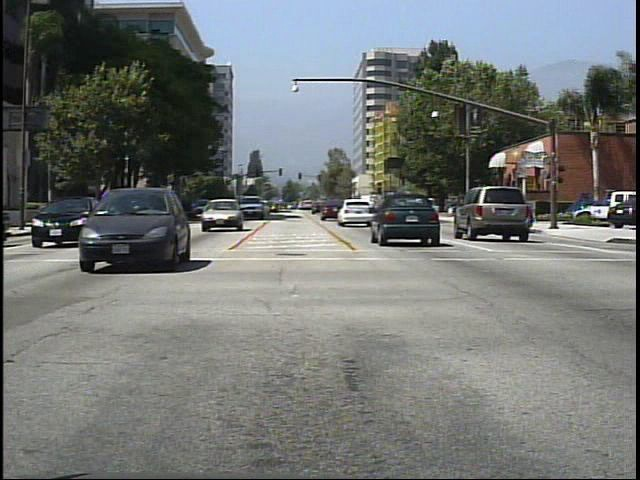person: (512, 195, 531, 231), (481, 190, 498, 225)
